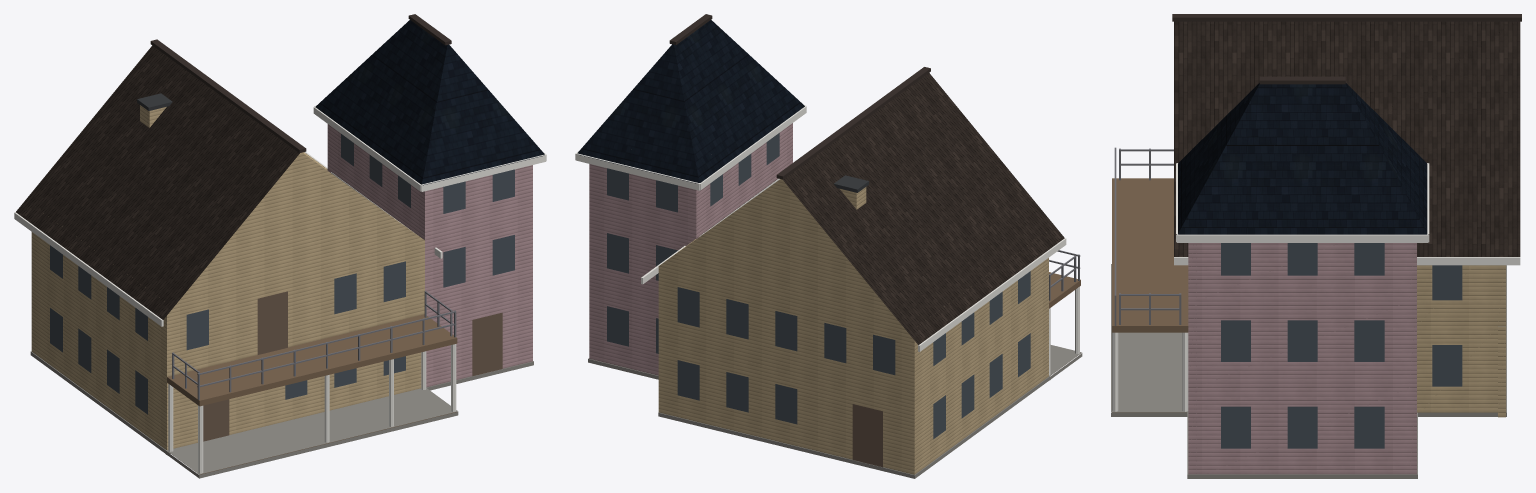
The model's file is ns-victorian.zfix-v22.lod1.glb.
3 renders of one model, left to right at view 1: azimuth 30°, elevation 25°; view 2: azimuth 150°, elevation 25°; view 3: azimuth 270°, elevation 25°, orthographic. The views are drawn at different scales.
Visible parts, largest first — view 1: ns-victorian; view 2: ns-victorian; view 3: ns-victorian.
Part boxes in pixels (x1,y1,x2,y2): ns-victorian: (14,14,546,478); ns-victorian: (575,14,1082,478); ns-victorian: (1111,14,1521,478).
Bounding box in the file's own units: 16.48 × 12.83 × 12.93.
4 materials, 3 textured.
